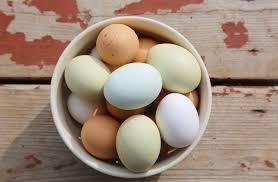egg: (113, 112, 160, 173), (148, 43, 202, 96), (106, 62, 164, 107), (158, 92, 201, 150), (63, 55, 112, 98), (79, 114, 121, 164), (98, 22, 144, 66)
